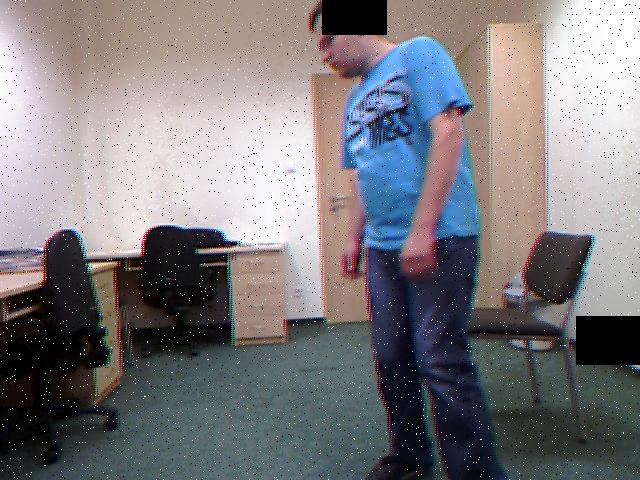standing: (298, 0, 548, 480)
